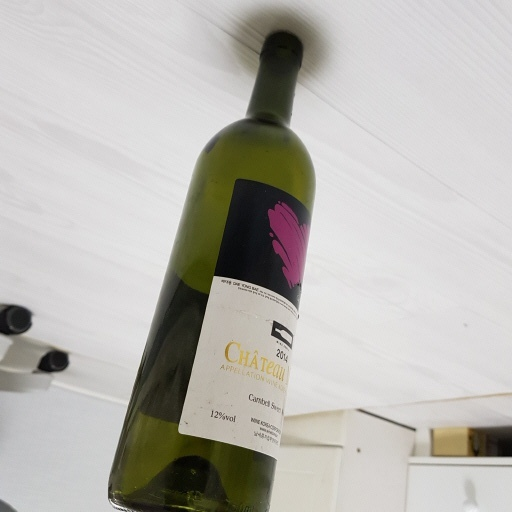Glass_2: (104, 28, 317, 512)
